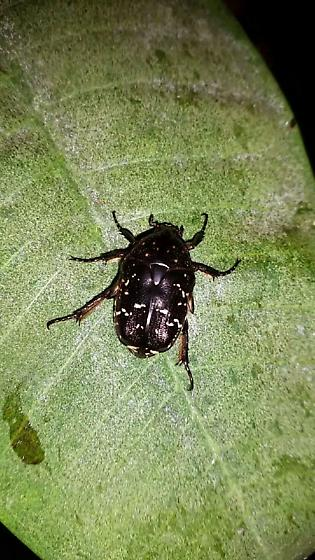Protaetia _orientalis: (42, 204, 245, 400)
